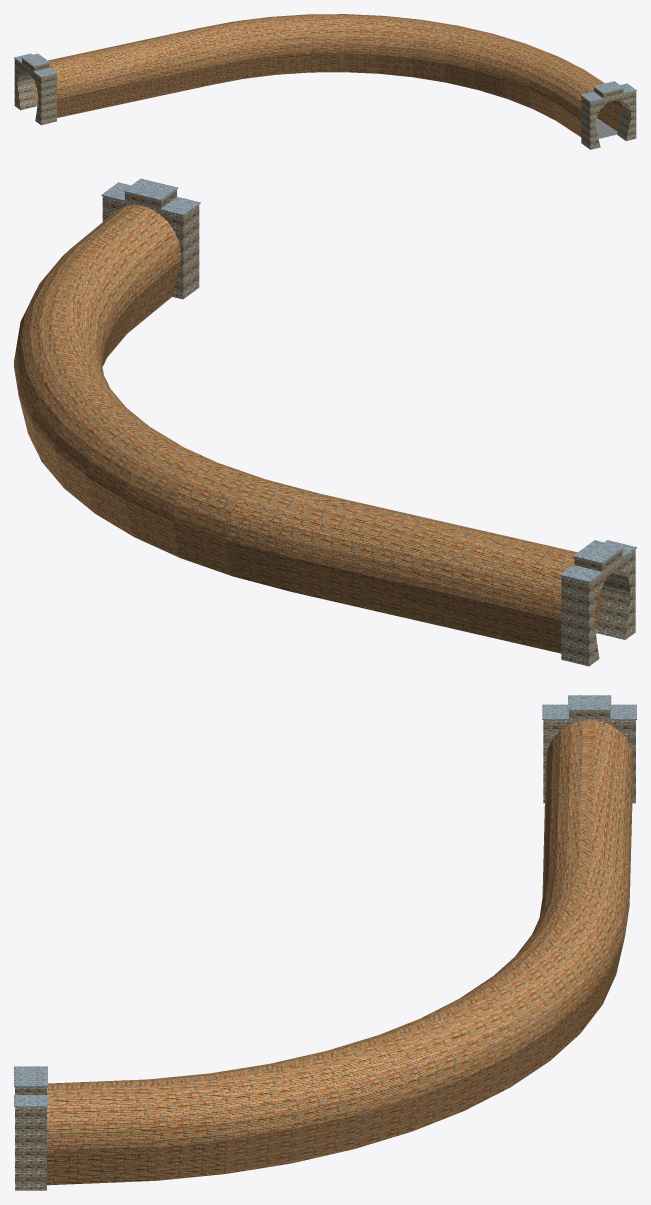
Rendered from GMLID_BUI336993_213_9312.dae.
3 renders of one model, top to bottom at view 1: azimuth 30°, elevation 25°; view 2: azimuth 150°, elevation 25°; view 3: azimuth 270°, elevation 25°, orthographic. The views are drawn at different scales.
Size of the model in its own units: 105 by 72.69 by 14.75.
4 materials, 4 textured.
